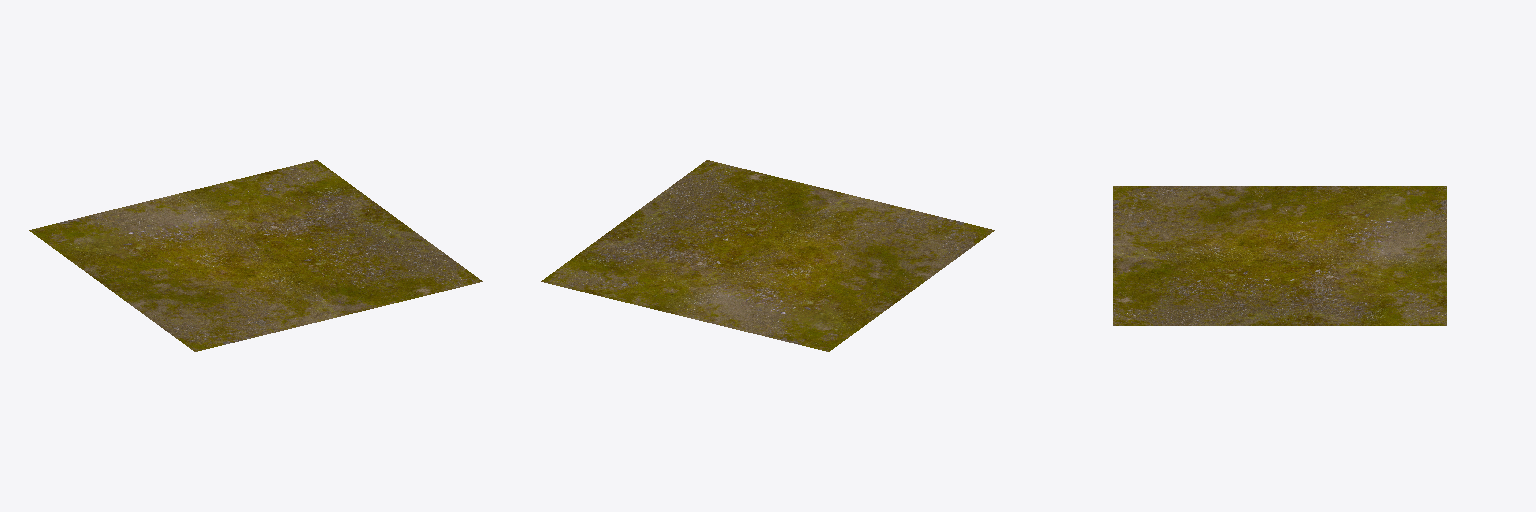
3 views of the same model, side by side, from view 1: azimuth 30°, elevation 25°; view 2: azimuth 150°, elevation 25°; view 3: azimuth 270°, elevation 25° (orthographic).
Parts seen in each view (by area): view 1: Plane; view 2: Plane; view 3: Plane.
Part boxes in pixels (bbox=[...]): Plane: bbox=[29, 160, 482, 351]; Plane: bbox=[541, 160, 994, 351]; Plane: bbox=[1113, 186, 1446, 325].
Size of the model in its own units: 7.3 by 0 by 7.3.
Materials: 1 (1 with a texture image).